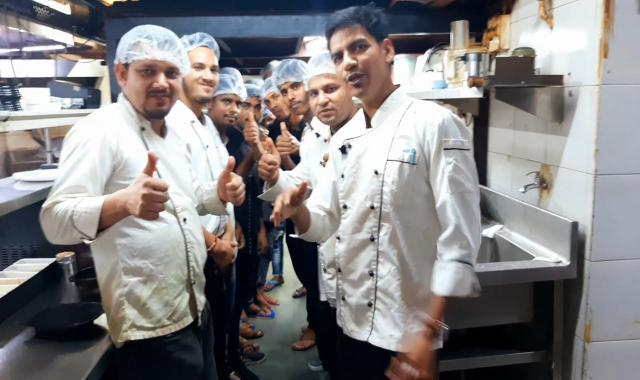hairnet: (111, 25, 186, 67), (303, 53, 346, 92), (180, 32, 232, 63), (212, 77, 253, 103), (275, 58, 307, 90), (264, 79, 276, 104)
no_hairnet: (322, 8, 390, 52)
